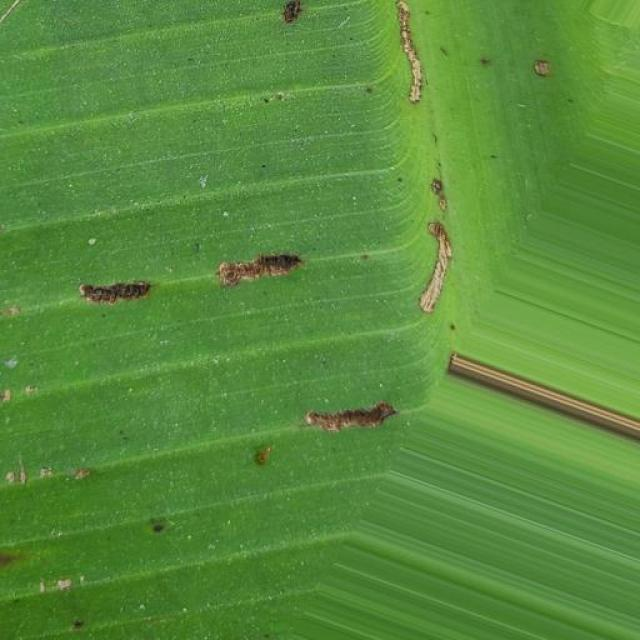Black_rot: (41, 6, 640, 538)
